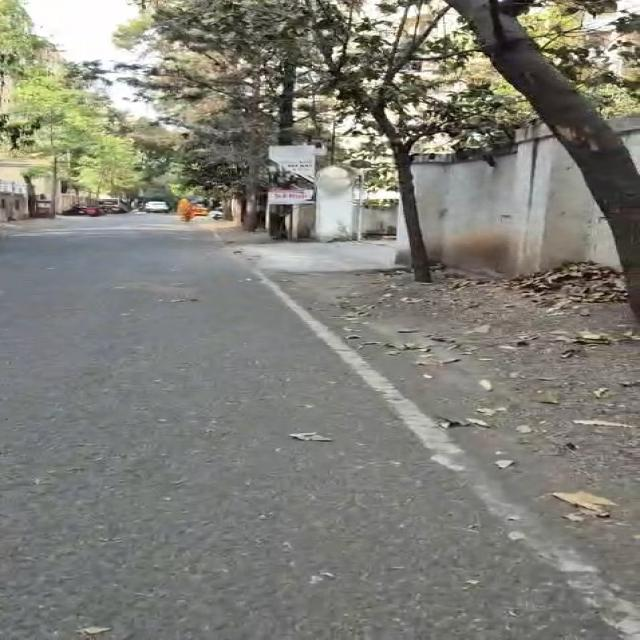obstacle: (446, 0, 639, 318), (304, 0, 511, 281), (14, 71, 96, 215), (74, 134, 141, 197)
person: (177, 198, 194, 222)
